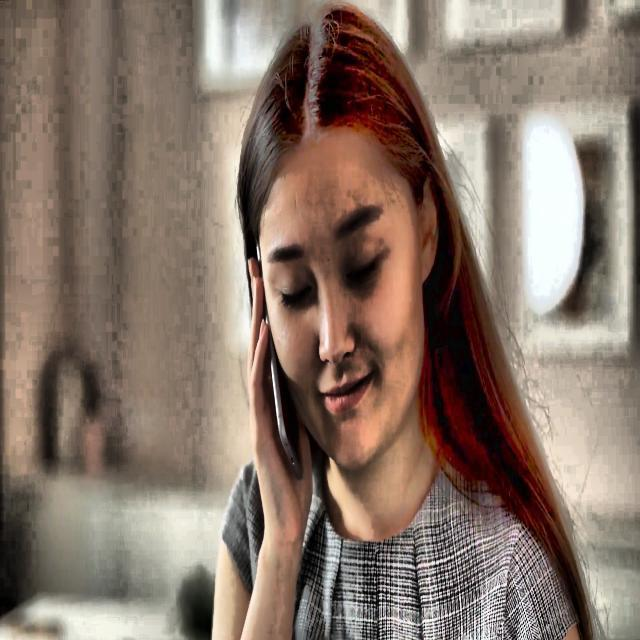Phone: (253, 236, 306, 483)
